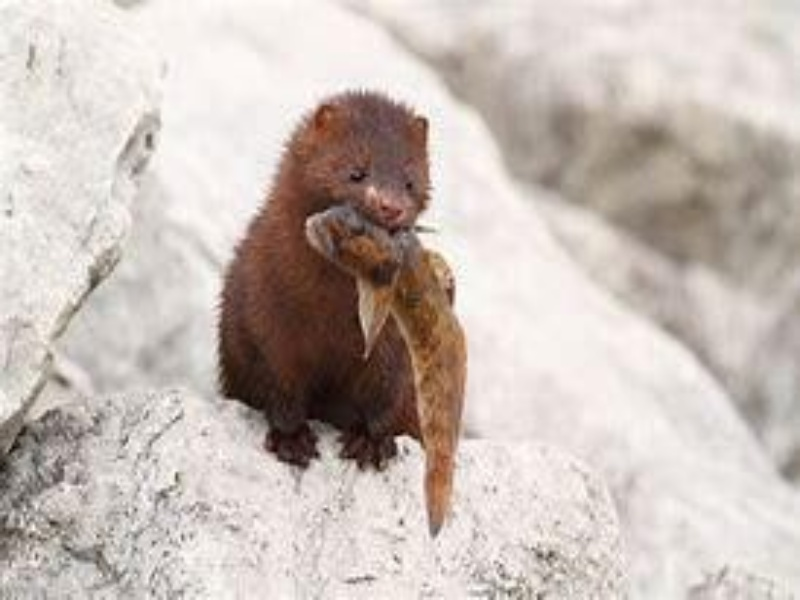minkish: (210, 89, 462, 479)
